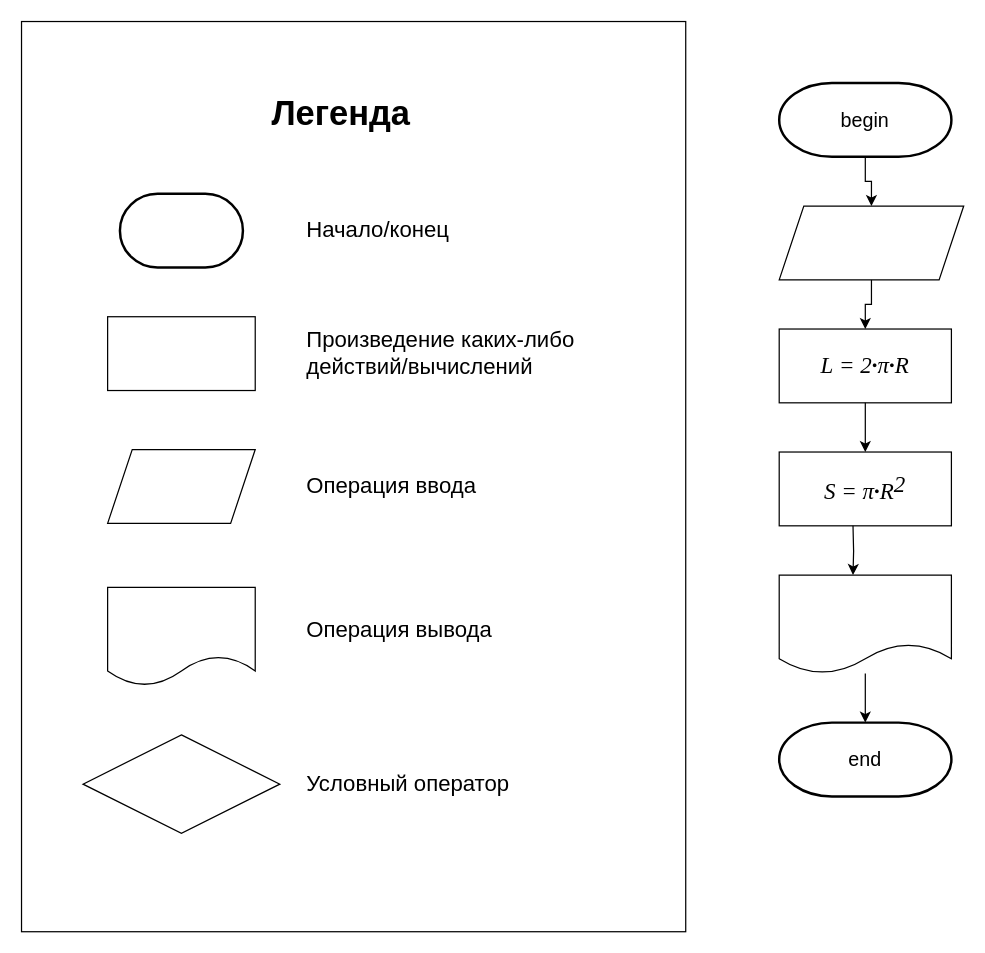
Some shapes in this 985 by 953 pixel diagram are drawn without their labels. The centre of each missing label's shape, as x and y in pixels:
L, S: pixel 864 623
Ввод радиуса R: pixel 871 242
